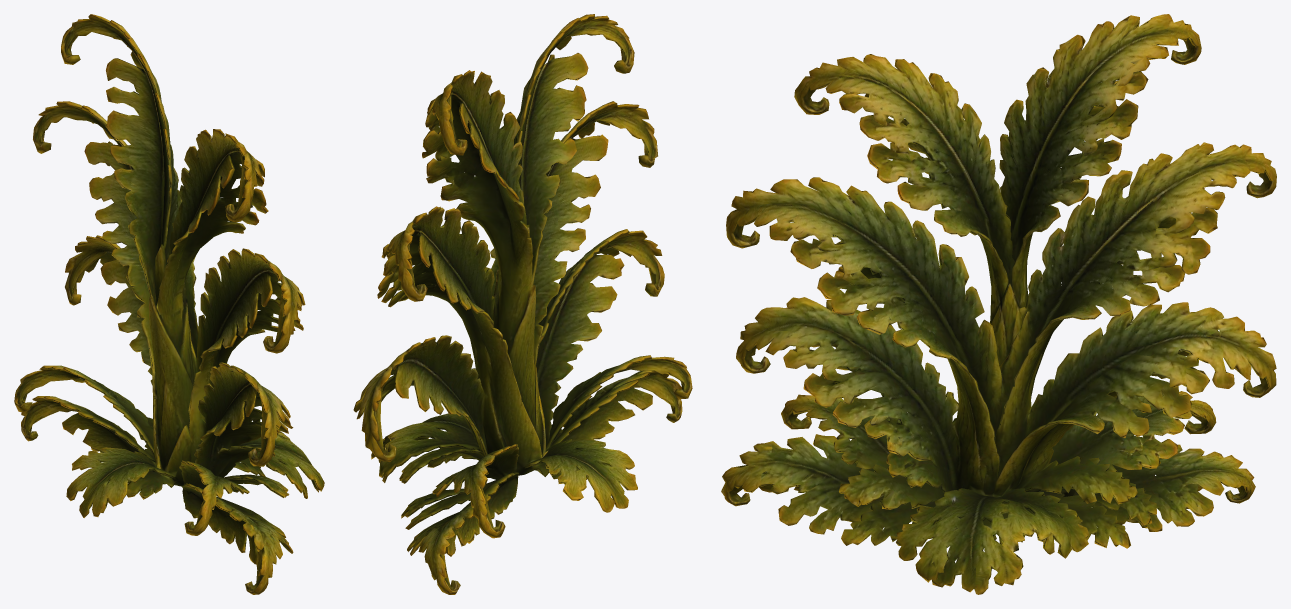
File: ornamental+plant+3d+model+1k-3.glb
3 renders of one model, left to right at view 1: azimuth 30°, elevation 25°; view 2: azimuth 150°, elevation 25°; view 3: azimuth 270°, elevation 25°, orthographic. The views are drawn at different scales.
Visible parts, largest first — view 1: tripo_node_292bb2bf-2d24-4291-8551-b5fed4b0a12e; view 2: tripo_node_292bb2bf-2d24-4291-8551-b5fed4b0a12e; view 3: tripo_node_292bb2bf-2d24-4291-8551-b5fed4b0a12e.
Boxes of the visible parts, bbox=[...] form: tripo_node_292bb2bf-2d24-4291-8551-b5fed4b0a12e: bbox=[14, 14, 324, 594]; tripo_node_292bb2bf-2d24-4291-8551-b5fed4b0a12e: bbox=[353, 14, 692, 594]; tripo_node_292bb2bf-2d24-4291-8551-b5fed4b0a12e: bbox=[721, 14, 1276, 594].
Size of the model in its own units: 0.5454 by 1 by 0.9893.
Materials: 1 (1 with a texture image).
